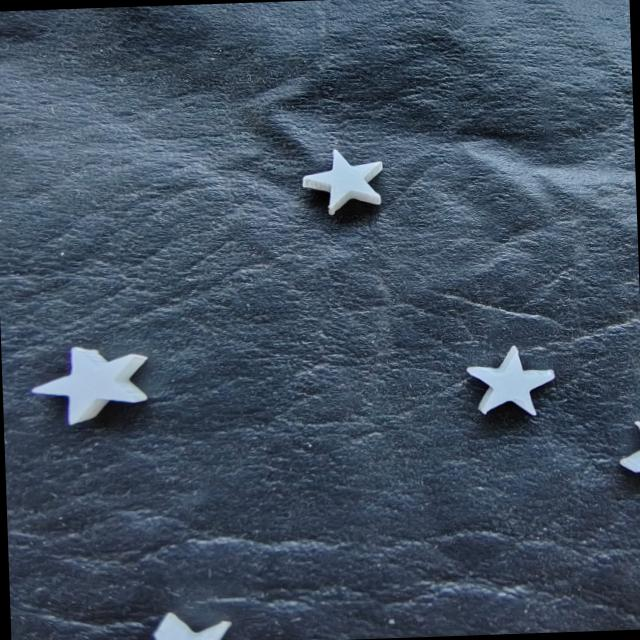estrellas: (29, 348, 139, 425), (470, 349, 552, 413), (308, 151, 380, 206)
